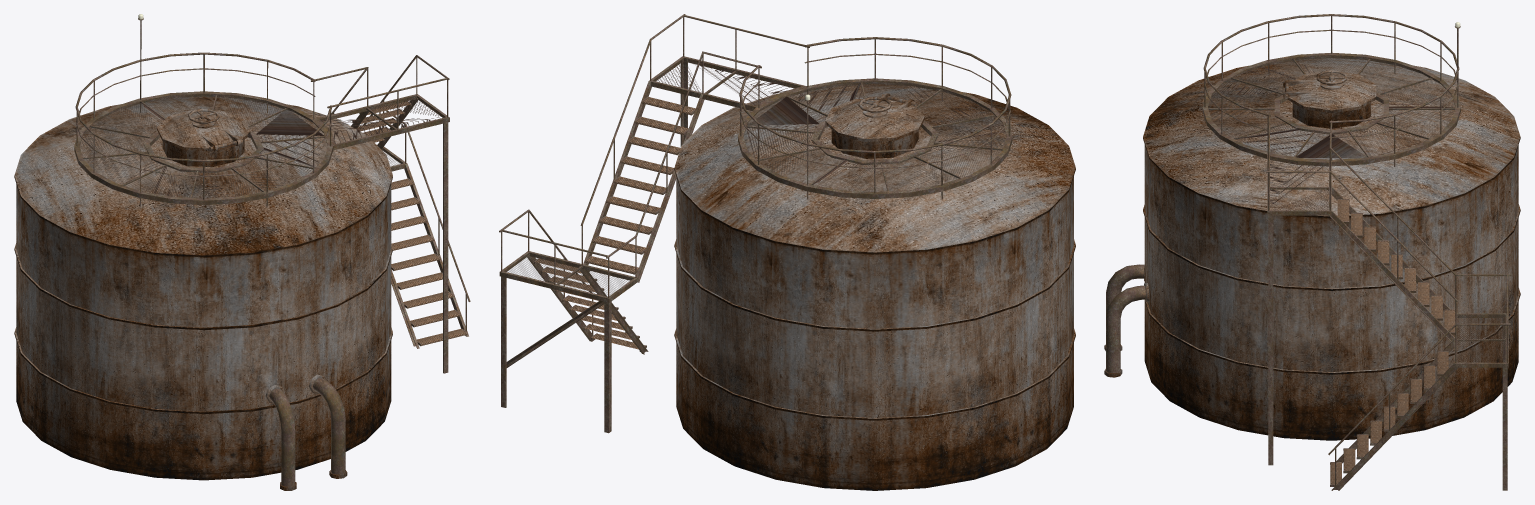
The model's file is old_oil_tank.glb.
The picture shows the model from 3 angles, left to right: view 1: azimuth 30°, elevation 25°; view 2: azimuth 150°, elevation 25°; view 3: azimuth 270°, elevation 25°; orthographic projection. The views are drawn at different scales.
Parts seen in each view (by area): view 1: Material3 (×2), Material2 (×2); view 2: Material3 (×2), Material2 (×2); view 3: Material3 (×2), Material2 (×2).
Part boxes in pixels (box(x1,y1,x2,y2)): Material3 (×2): box(14, 96, 466, 490); Material2 (×2): box(74, 18, 470, 486); Material3 (×2): box(535, 84, 1075, 490); Material2 (×2): box(499, 14, 1012, 433); Material3 (×2): box(1104, 58, 1520, 484); Material2 (×2): box(1106, 14, 1510, 490).
Size of the model in its own units: 397 by 301 by 334.
7 materials, 5 textured.
